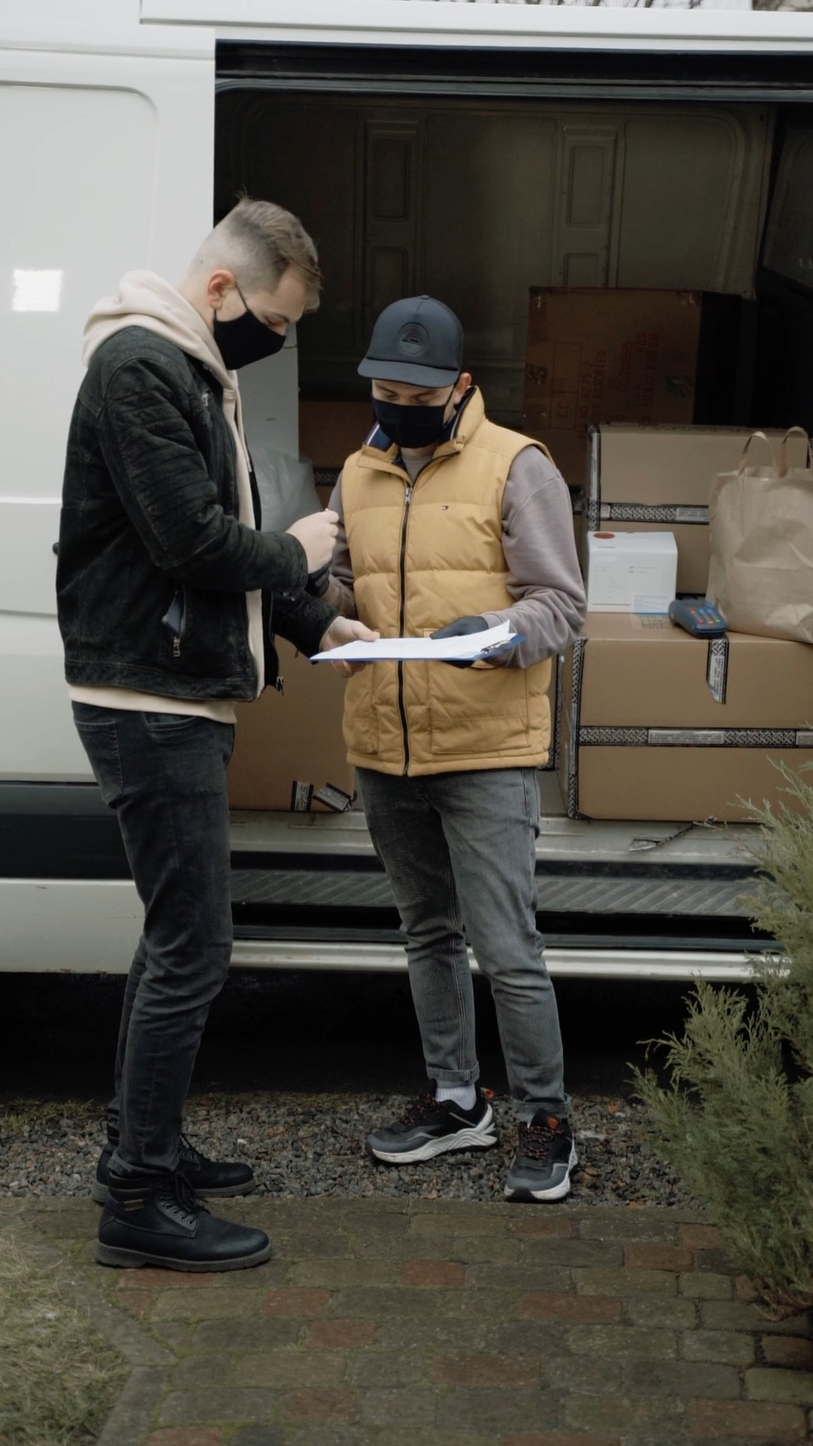No-gloves: (276, 497, 359, 592), (317, 587, 374, 693)
gloves: (428, 613, 512, 680)
